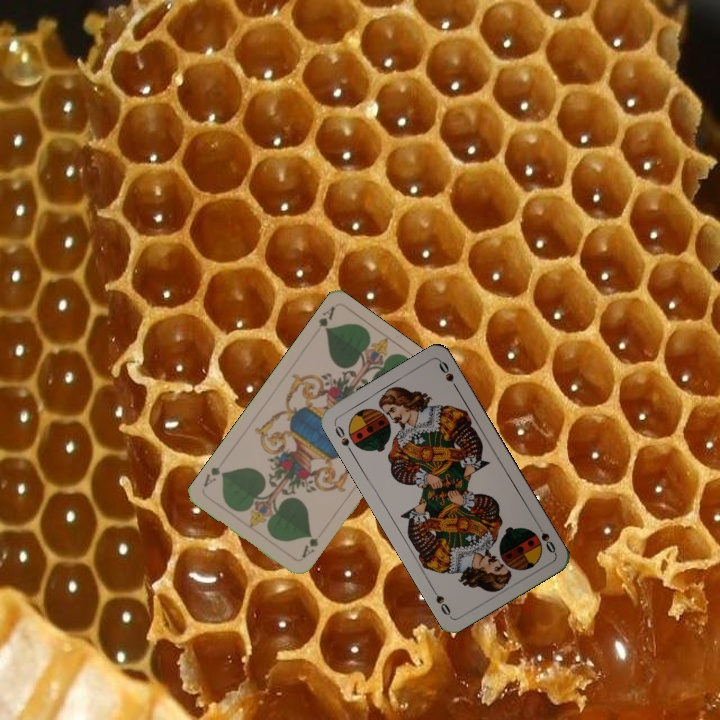GA: (297, 528, 326, 561), (314, 302, 338, 334)
SO: (330, 420, 356, 457), (533, 519, 558, 556)
